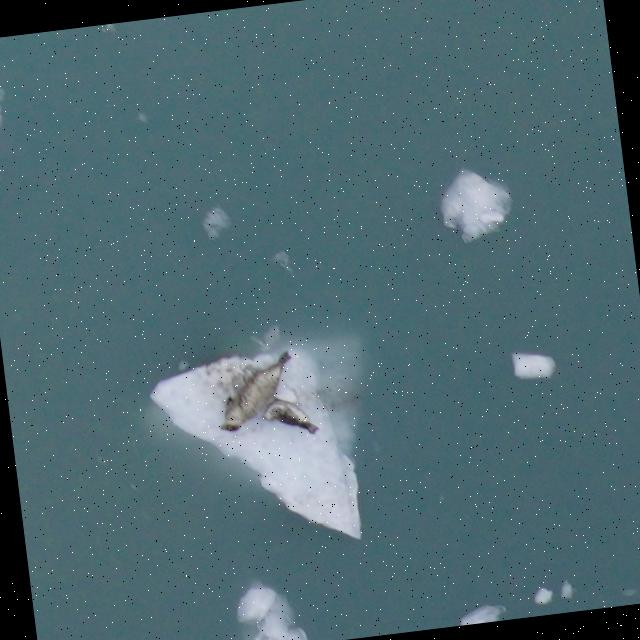seal: (205, 346, 304, 436), (255, 390, 322, 443)
